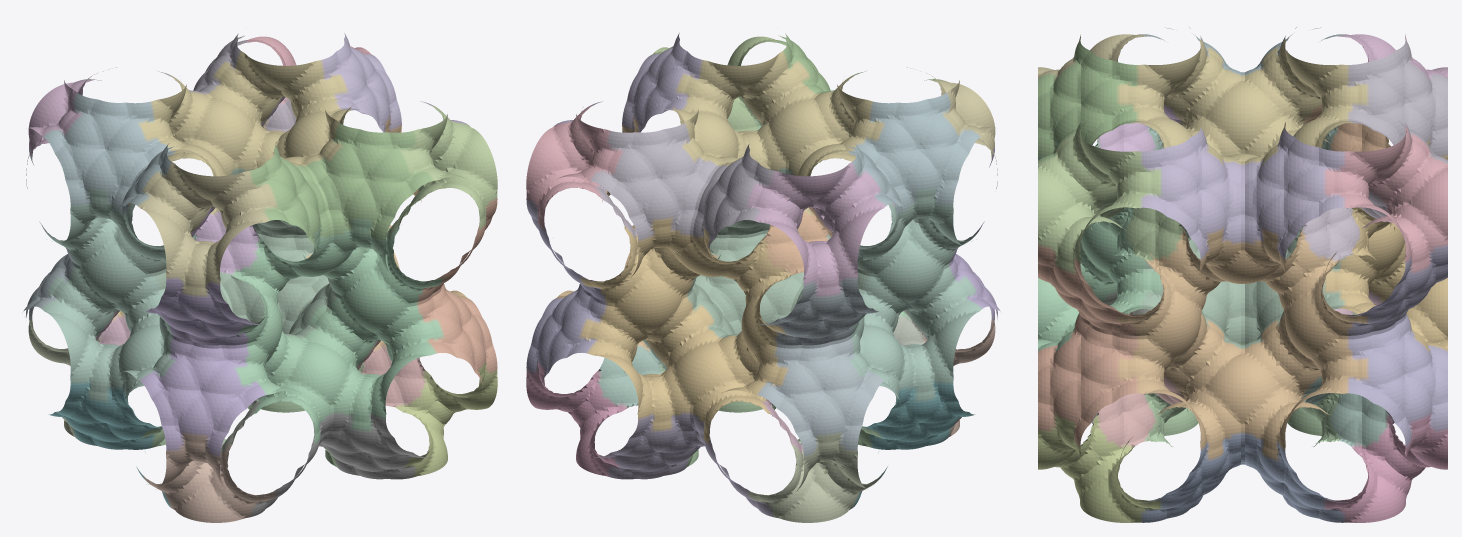
The model's file is 03_regions.glb.
3 renders of one model, left to right at view 1: azimuth 30°, elevation 25°; view 2: azimuth 150°, elevation 25°; view 3: azimuth 270°, elevation 25°, orthographic. The views are drawn at different scales.
Visible parts, largest first — view 1: 03_regions_trace0_mesh0; view 2: 03_regions_trace0_mesh0; view 3: 03_regions_trace0_mesh0.
Boxes of the visible parts, <box> form: 03_regions_trace0_mesh0: <box>23,33,497,522</box>; 03_regions_trace0_mesh0: <box>526,33,1000,522</box>; 03_regions_trace0_mesh0: <box>1038,27,1447,522</box>.
Size of the model in its own units: 26.09 by 26.09 by 26.09.
